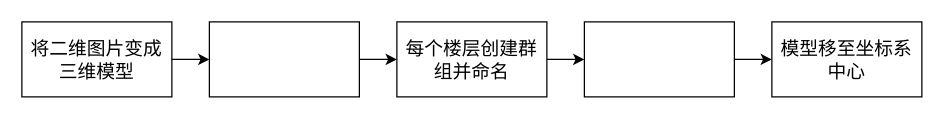
This 944x119 diagram has some shape labels left out. The shapes that lost their labels are listed below. From the top down, each one's box as (x1, y1, x2, y2) in pixels, then its label:
(208, 21, 359, 97): 使用实体工具细化模型
(583, 21, 734, 97): 纹理贴图
